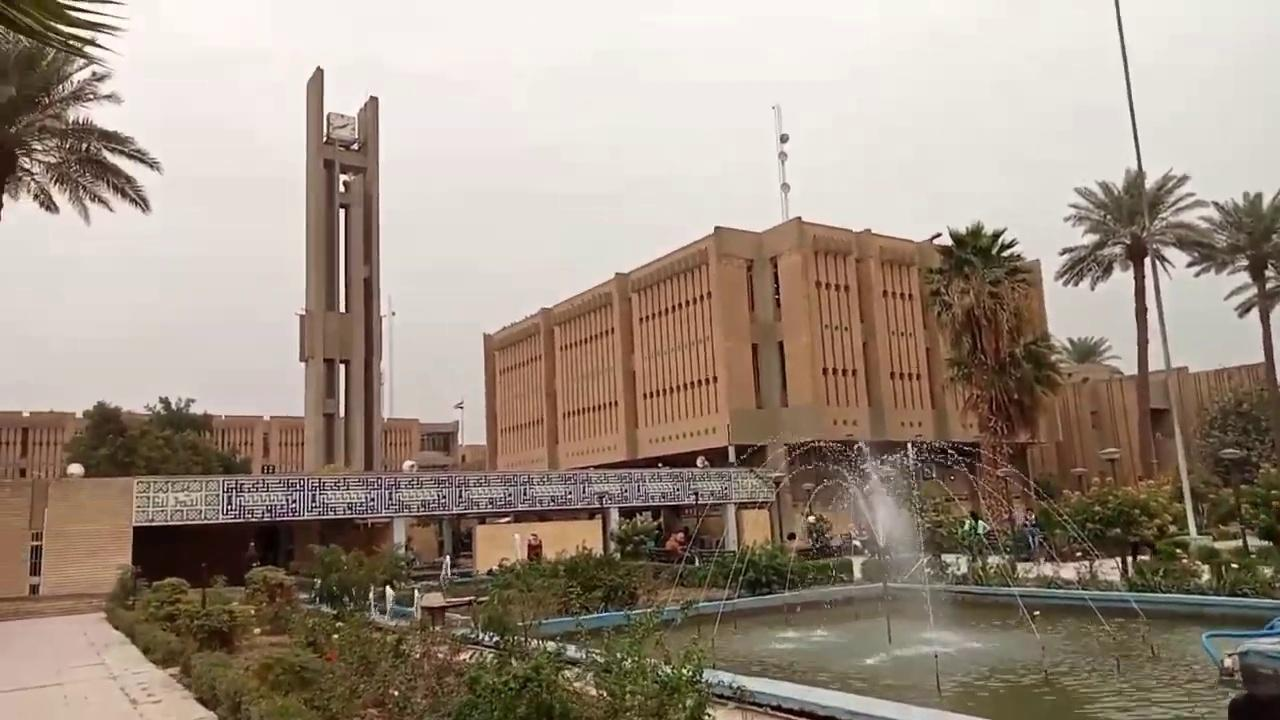fountain: (502, 434, 1277, 718)
person: (960, 509, 990, 556), (1020, 507, 1040, 560), (664, 526, 690, 559), (526, 532, 542, 562), (244, 541, 260, 568), (404, 535, 417, 567), (782, 531, 797, 555)
tree: (1053, 164, 1213, 535), (922, 219, 1066, 543), (0, 0, 163, 227), (1185, 187, 1279, 402), (62, 393, 252, 477), (1190, 382, 1277, 488), (299, 540, 413, 611), (62, 398, 136, 476), (607, 511, 661, 561), (1059, 334, 1121, 366)
